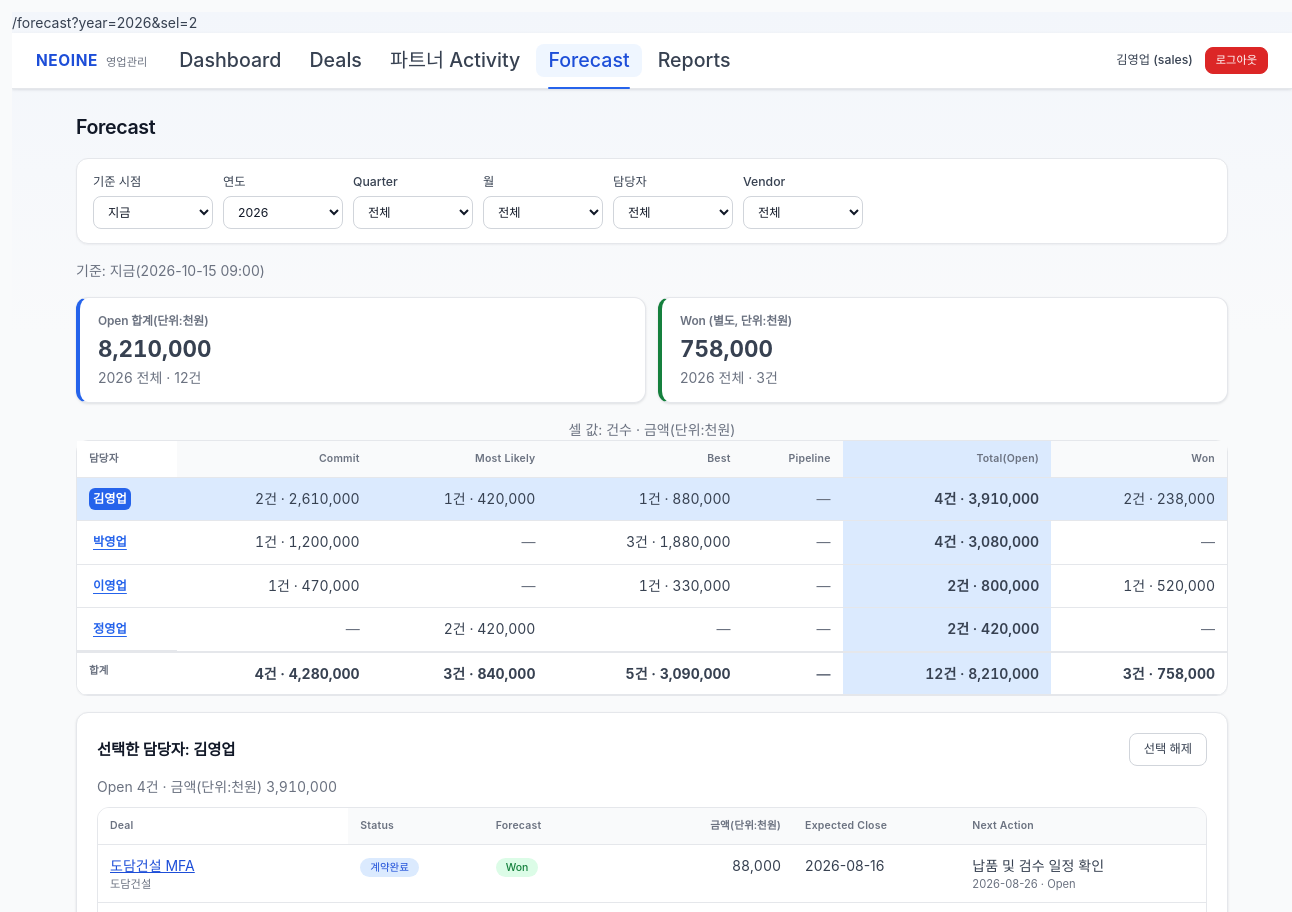
Scenario: 담당자 선택: 같은 화면 아래 Deal 목록 › 선택 해제 버튼으로 목록을 닫고 URL에서 선택이 사라진다
Click the button "선택 해제" at (1168, 750), box left=1129, top=734, right=1207, bottom=766
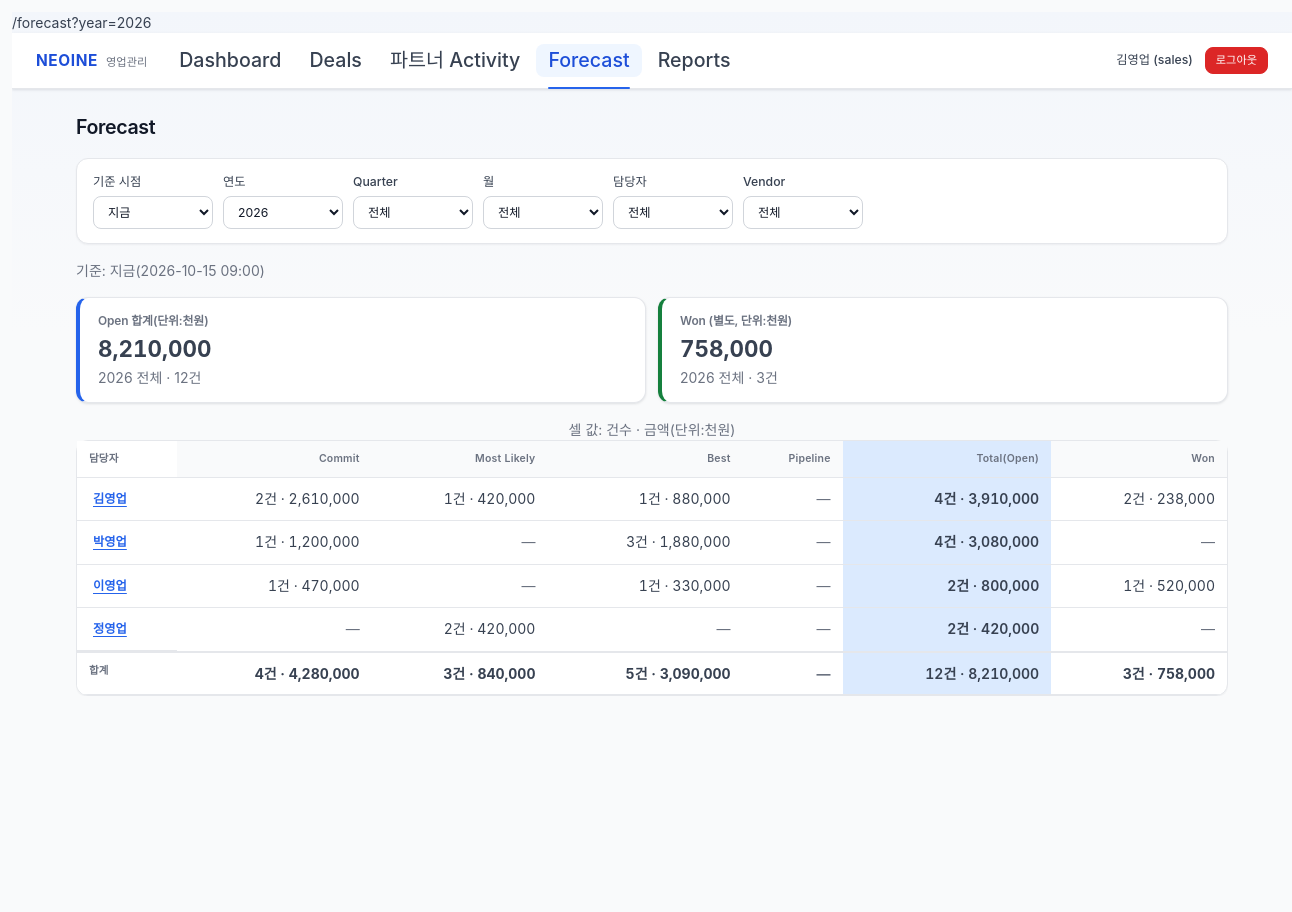
Check: the heading "선택한 담당자" is gone
Check: the text with test id "location" no longer shows "sel="
